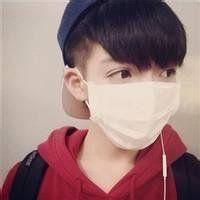face_mask: (88, 34, 177, 138)
